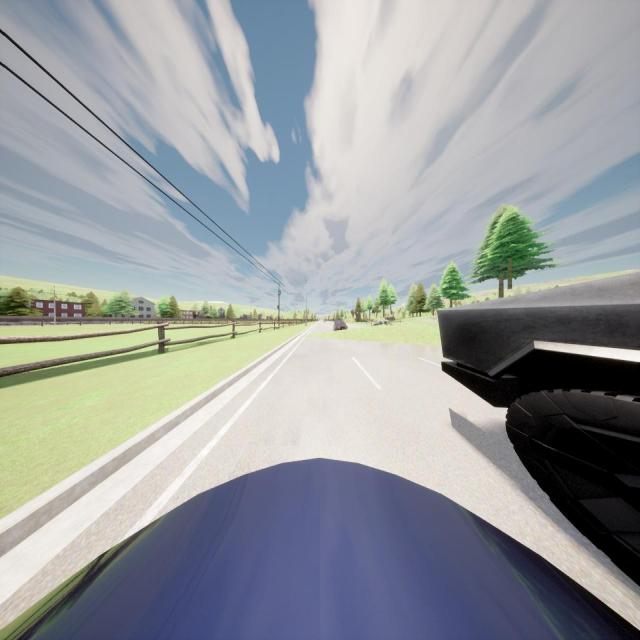Vehicle: (0, 456, 637, 640), (436, 270, 640, 590), (333, 320, 348, 330)
